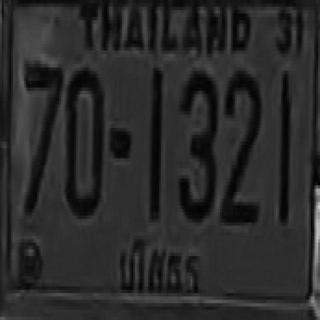N00: (65, 64, 102, 216)
N01: (148, 66, 161, 217), (278, 69, 290, 220)
N02: (221, 67, 260, 222)
N03: (178, 67, 216, 219)
N07: (23, 61, 62, 212)
P77: (117, 233, 208, 299)
